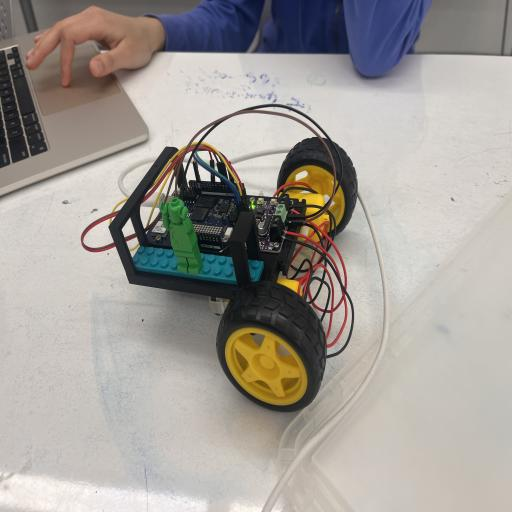Lego-Minifig: (162, 197, 203, 275)
